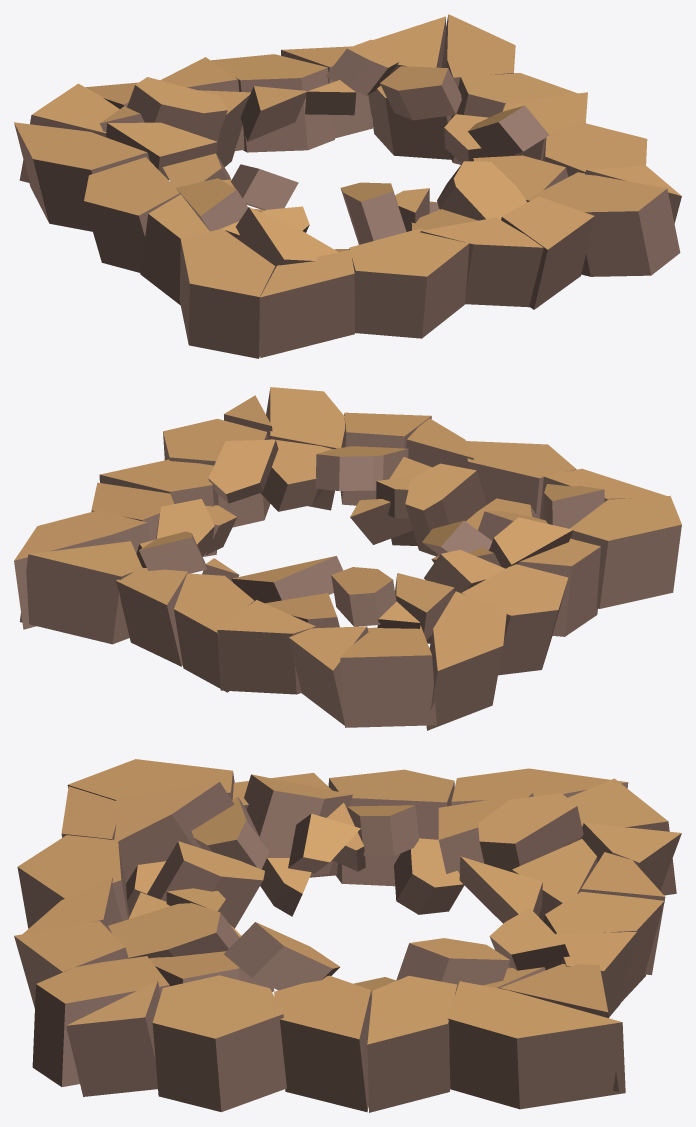
Rendered from terrain1.glb.
3 views of the same model, one above another, from view 1: azimuth 30°, elevation 25°; view 2: azimuth 150°, elevation 25°; view 3: azimuth 270°, elevation 25° (orthographic). The views are drawn at different scales.
Visible parts, largest first — view 1: Plane.054; view 2: Plane.054; view 3: Plane.054.
Part boxes in pixels (x1,y1,x2,y2): Plane.054: [14, 14, 681, 358]; Plane.054: [14, 387, 681, 730]; Plane.054: [14, 759, 681, 1112].
Size of the model in its own units: 77.51 by 16.94 by 77.95.
Materials: 1 (1 with a texture image).
